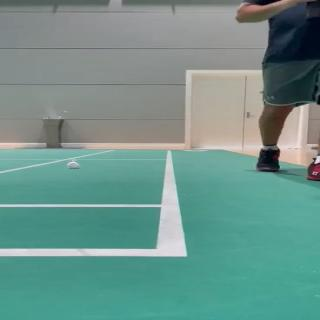Shuttle: (66, 159, 80, 169)
